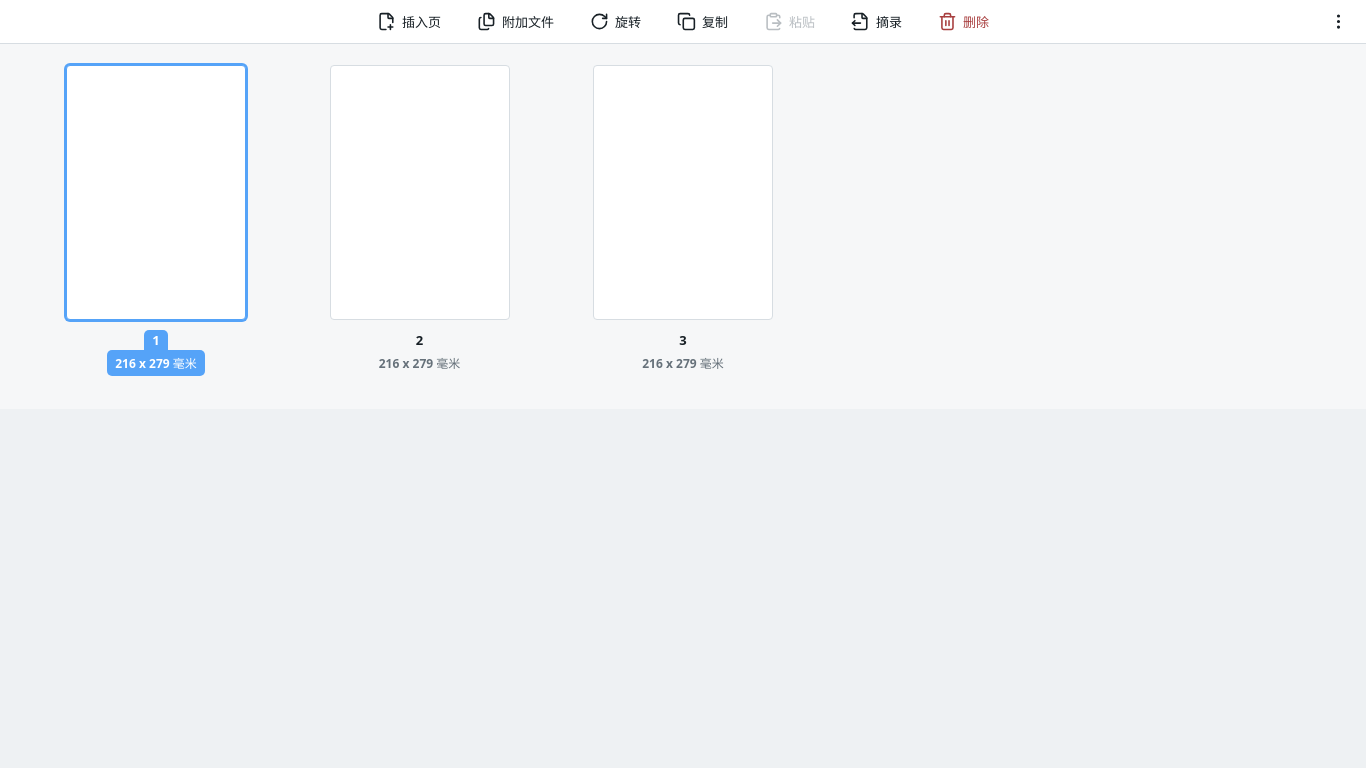
Test: PageOrganizerWorkspace ISS-NEW-A 阶段 2：插入 / 合并 / 提取 UI 入口 › 插入 PDF 缺文件时显示错误
Click the heading named "更多页面工具" at [1338, 22], box top-left (1328, 12), bottom-right (1348, 31)
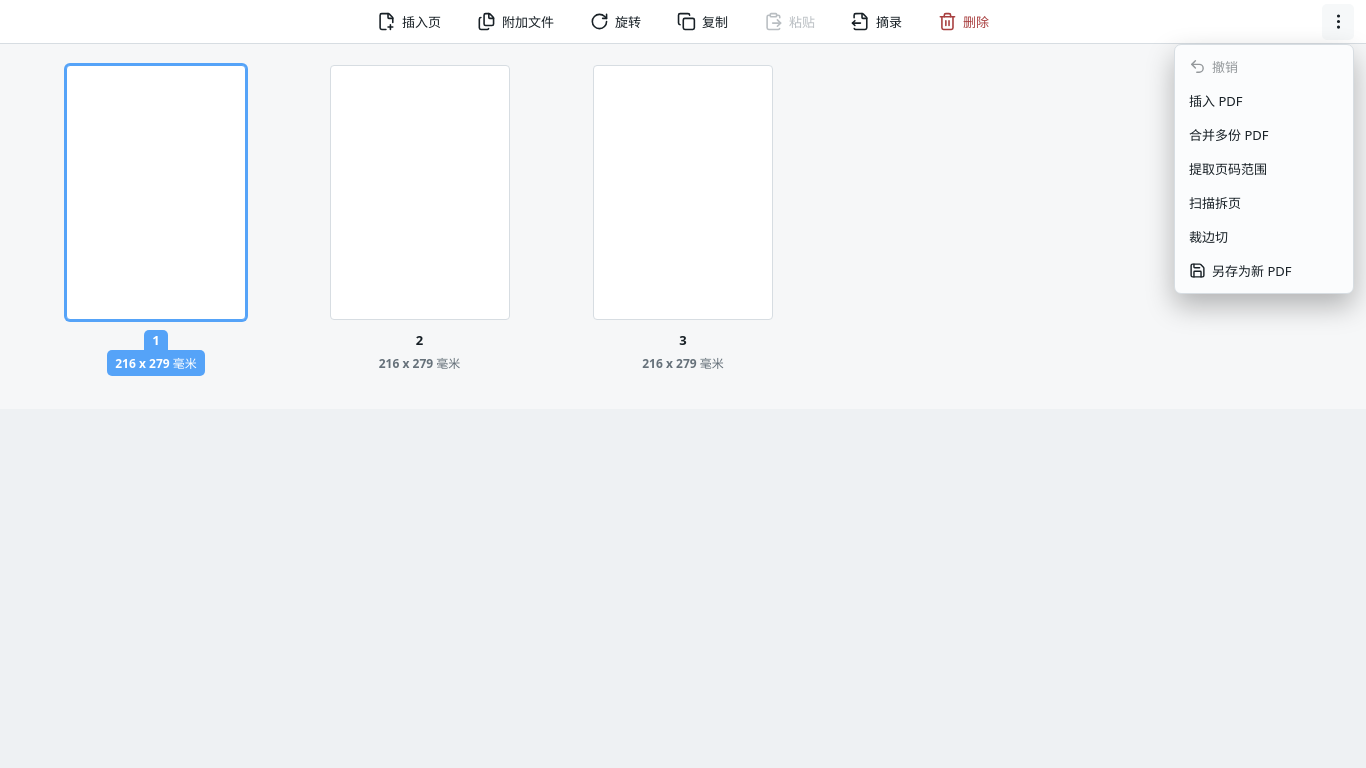
Click the menu item with test id "page-organizer-insert-pdf" at [1264, 100], box top-left (1181, 84), bottom-right (1347, 116)
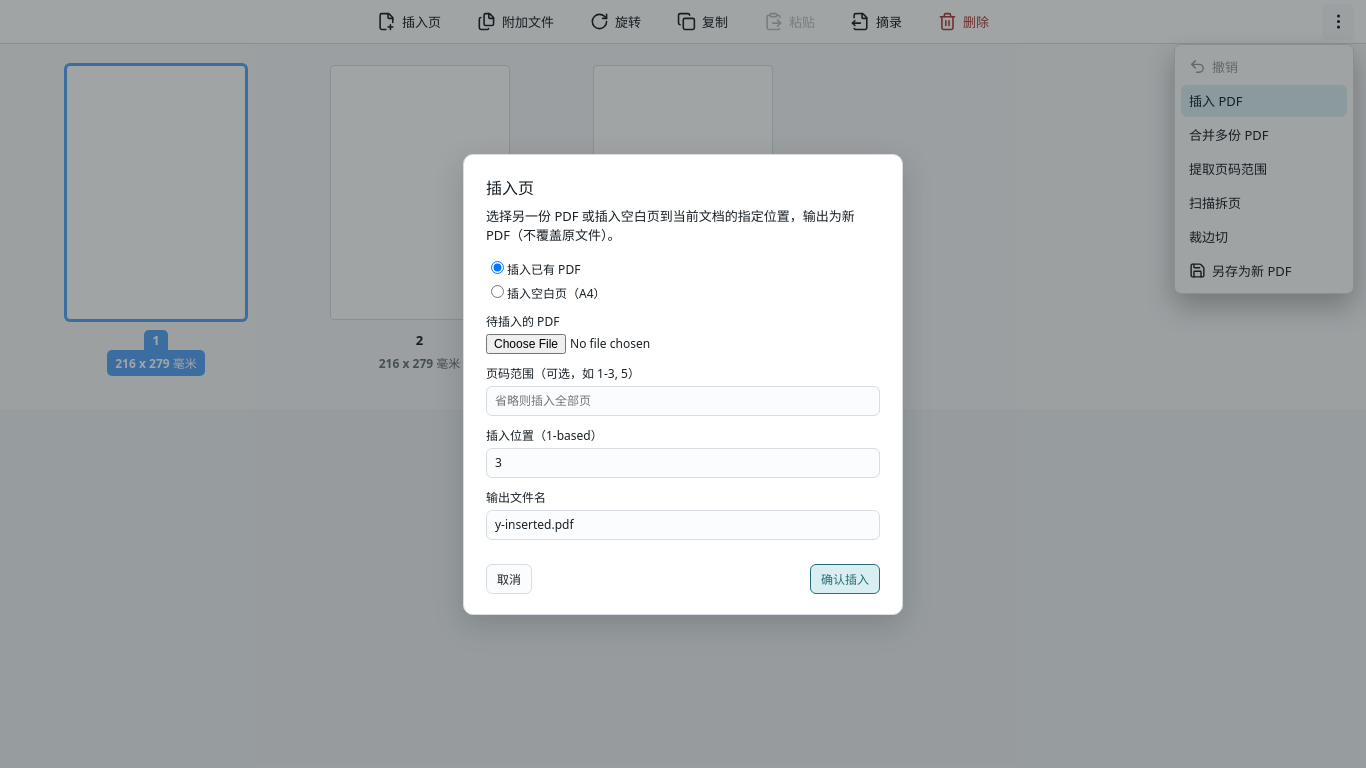
Click the button with test id "insert-pdf-confirm" at [845, 578], box top-left (810, 564), bottom-right (880, 594)
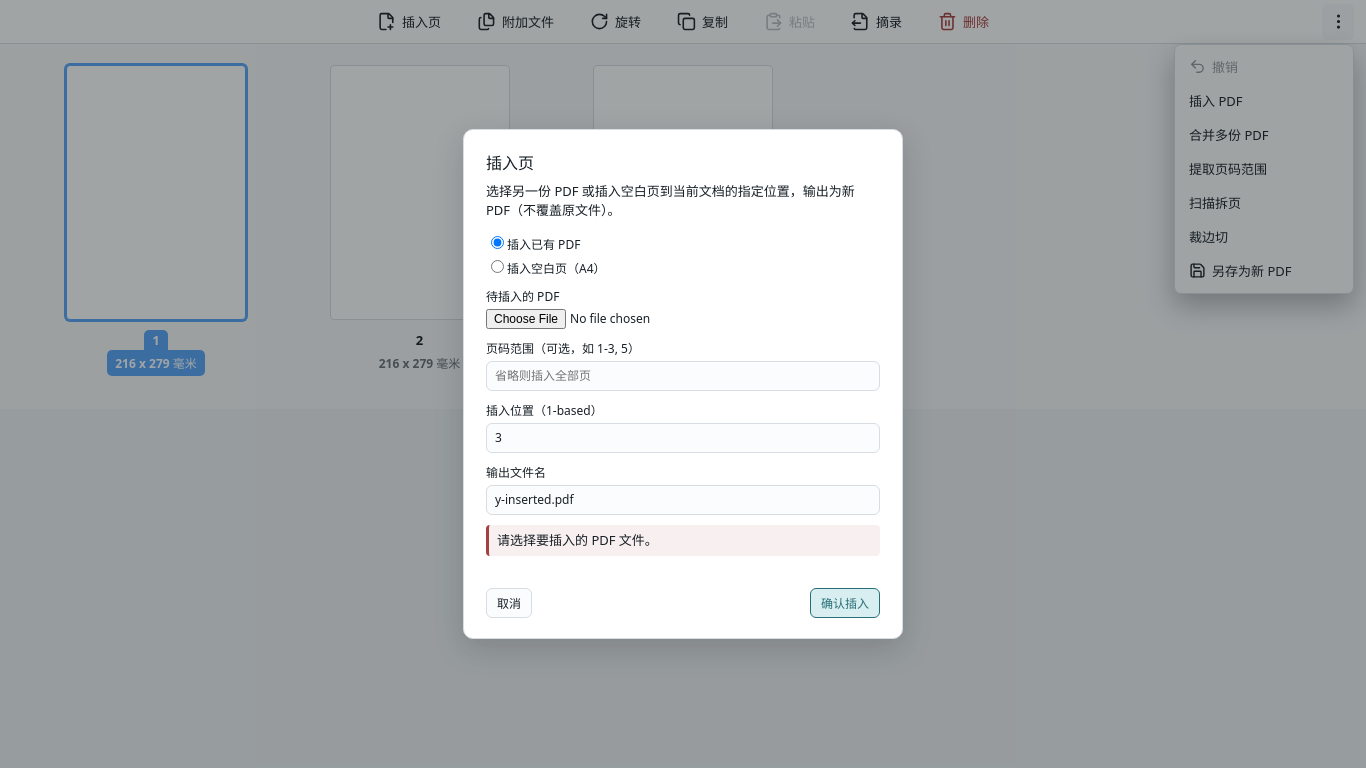
Expected: the message with test id "insert-pdf-error" shows "选择要插入的 PDF", top-left (497, 531), bottom-right (658, 549)
